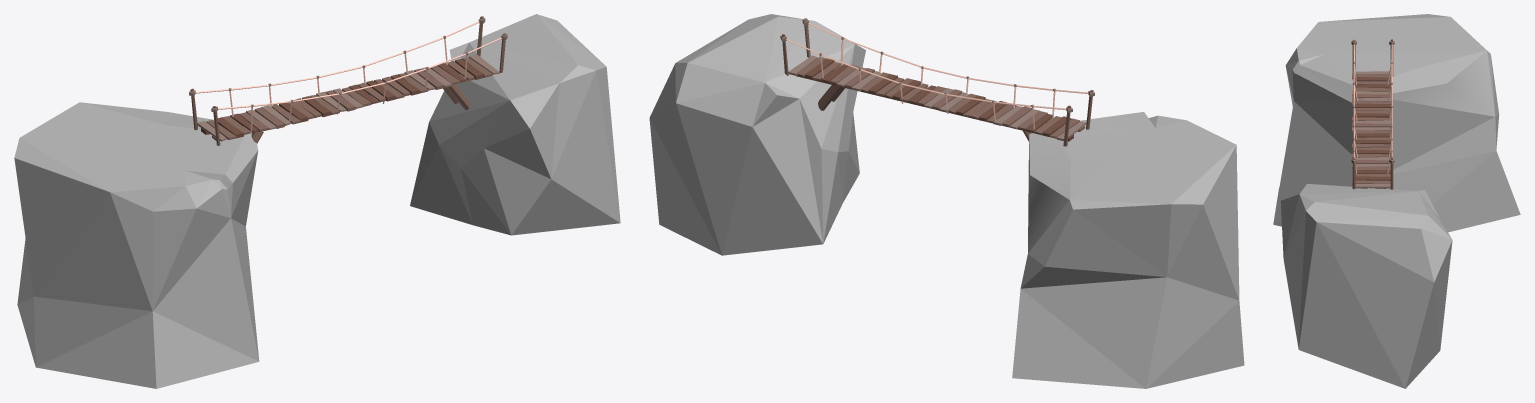
The model's file is Building_008.glb.
The picture shows the model from 3 angles, left to right: view 1: azimuth 30°, elevation 25°; view 2: azimuth 150°, elevation 25°; view 3: azimuth 270°, elevation 25°; orthographic projection. The views are drawn at different scales.
Visible parts, largest first — view 1: Building_008; view 2: Building_008; view 3: Building_008.
Part boxes in pixels (<box>): Building_008: <box>14,14,620,388</box>; Building_008: <box>649,14,1244,388</box>; Building_008: <box>1273,14,1520,388</box>.
Size of the model in its own units: 30 by 11.55 by 13.23.
Materials: 1 (1 with a texture image).
